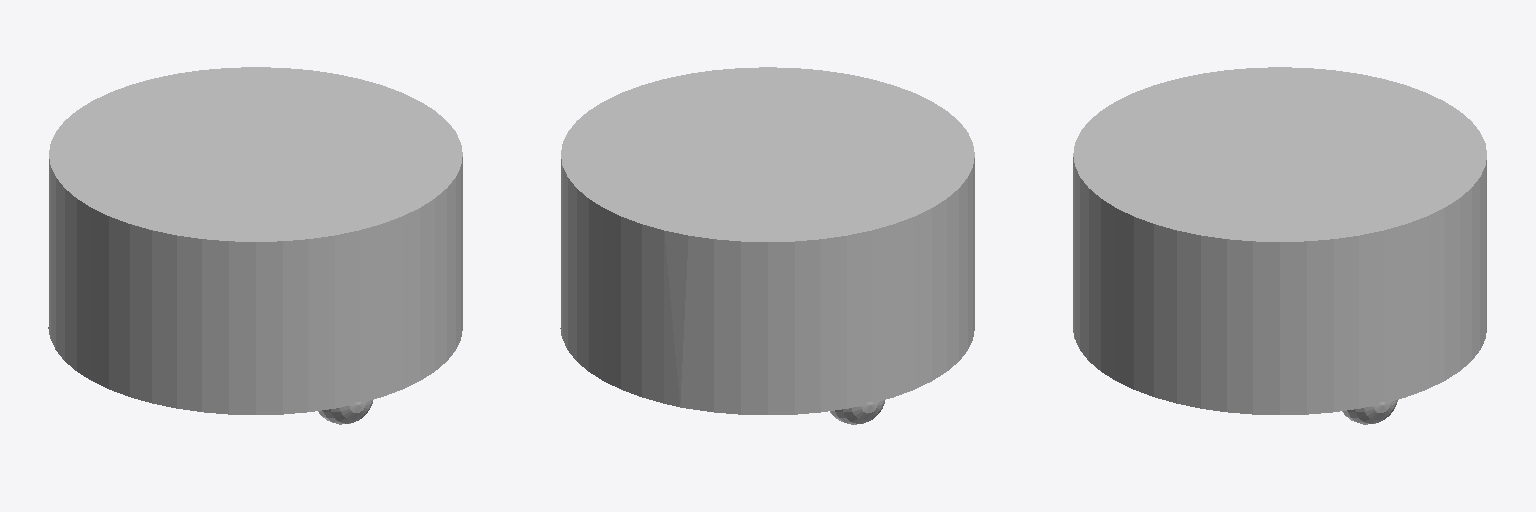
File: PuckRobot.obj
The picture shows the model from 3 angles: view 1: azimuth 30°, elevation 25°; view 2: azimuth 150°, elevation 25°; view 3: azimuth 270°, elevation 25°; orthographic projection.
Visible parts, largest first — view 1: SketchUp, Simple_sphere_02; view 2: SketchUp, Simple_sphere_02_ncl1_1; view 3: SketchUp, Simple_sphere_02_ncl1_2.
Part boxes in pixels (x1,y1,x2,y2): SketchUp: (49, 67, 462, 414); Simple_sphere_02: (318, 400, 372, 424); SketchUp: (561, 67, 974, 414); Simple_sphere_02_ncl1_1: (830, 400, 884, 424); SketchUp: (1073, 67, 1486, 414); Simple_sphere_02_ncl1_2: (1342, 400, 1397, 424).
Bounding box in the file's own units: 0.1824 × 0.0985 × 0.1826.